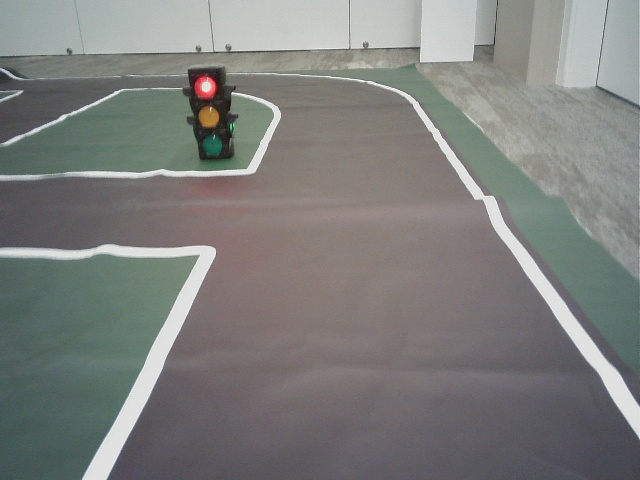red: (189, 71, 227, 158)
